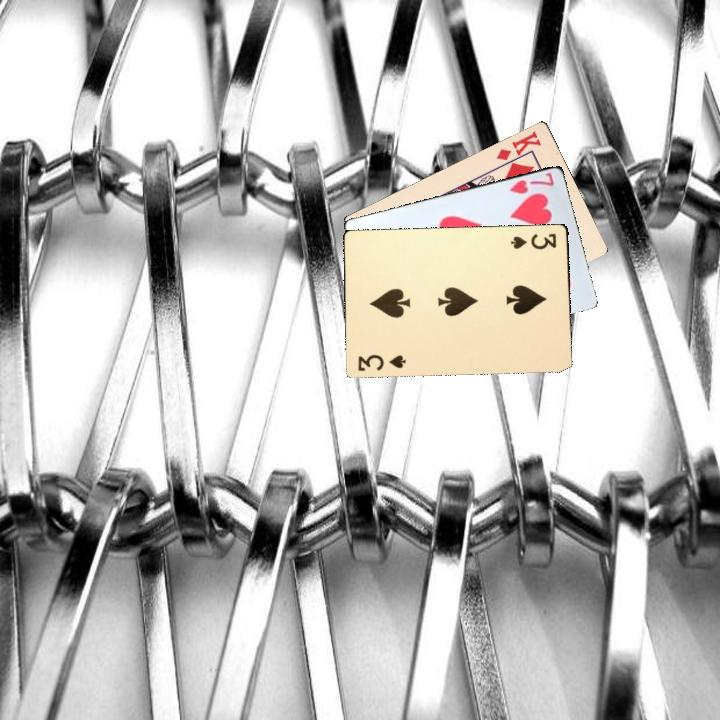3s: (354, 350, 408, 373), (507, 229, 558, 252)
7h: (505, 168, 557, 196)
Kd: (493, 127, 544, 169)
